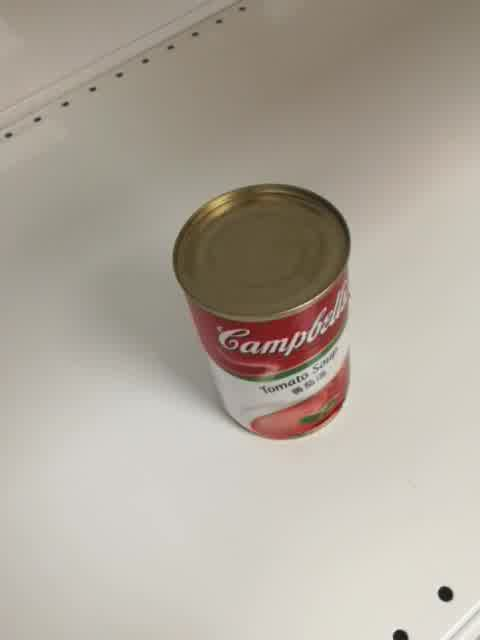tomatosoup: (170, 181, 352, 440)
